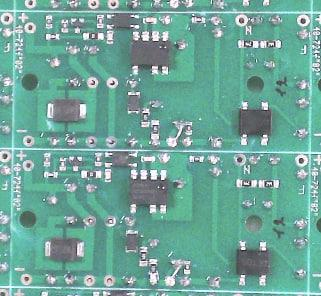chip-capacitor: (142, 16, 157, 24), (106, 31, 114, 45), (104, 169, 112, 182), (140, 156, 156, 162)
chip-resistor: (82, 31, 105, 41), (237, 39, 259, 49), (259, 179, 280, 189), (235, 179, 258, 188), (260, 40, 282, 49), (141, 107, 150, 128), (151, 119, 160, 139), (81, 170, 101, 179), (139, 247, 148, 266), (149, 258, 158, 275), (96, 14, 105, 29), (188, 155, 204, 163), (184, 122, 193, 136), (43, 171, 58, 179), (183, 260, 191, 275), (45, 15, 53, 29), (45, 33, 61, 40), (61, 19, 69, 33), (43, 153, 51, 167), (59, 157, 67, 171), (192, 16, 205, 24), (95, 153, 102, 166)
diode: (44, 237, 85, 261), (47, 98, 87, 122), (125, 229, 139, 253), (127, 91, 141, 114)
ic: (130, 31, 171, 75), (128, 169, 168, 214), (235, 240, 271, 286), (238, 101, 272, 146), (106, 13, 140, 30), (104, 151, 138, 168)
transistor: (70, 17, 85, 34), (68, 156, 82, 172)
